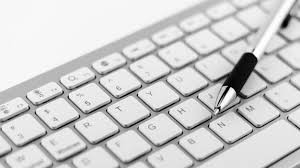pen: (215, 1, 292, 115)
